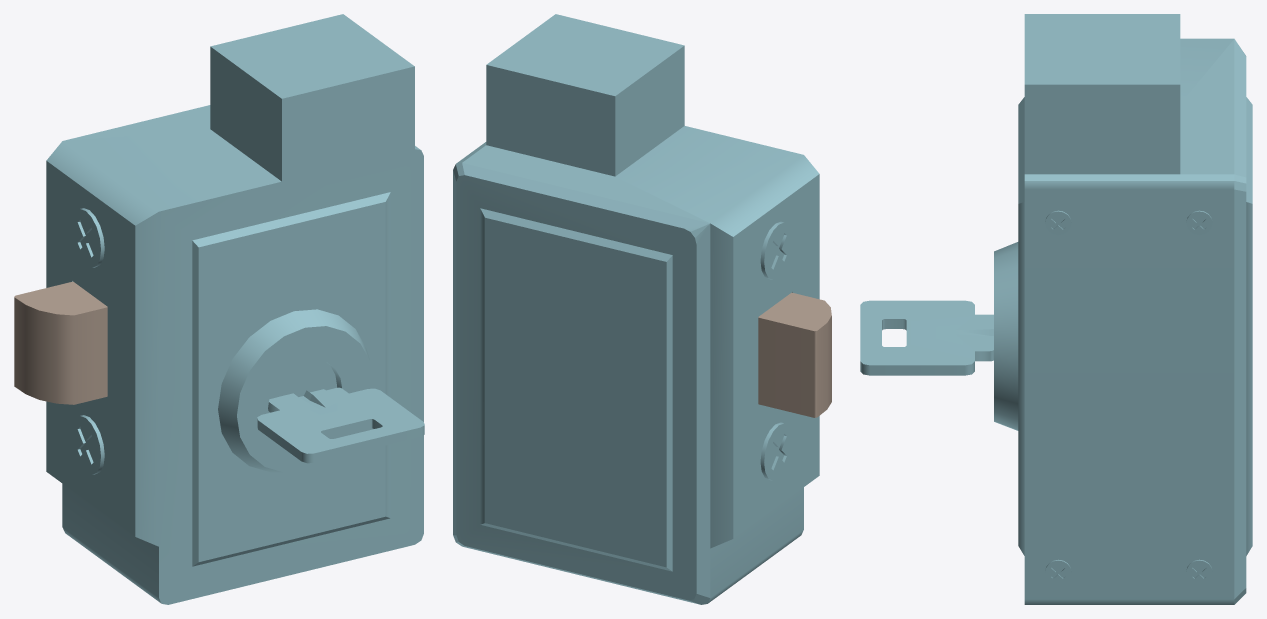
The model's file is Lock.fbx.
The picture shows the model from 3 angles, left to right: view 1: azimuth 30°, elevation 25°; view 2: azimuth 150°, elevation 25°; view 3: azimuth 270°, elevation 25°; orthographic projection. The views are drawn at different scales.
Visible parts, largest first — view 1: LockShell, LockHole1, LockHeadModel, Key, ShellNail, ShellNail1; view 2: BackShell, LockShell, LockHeadModel, ShellNail, ShellNail1; view 3: LockShell, BackShell, Key, LockHole1, ShellNail3, ShellNail4, ShellNail5, ShellNail2.
Boxes of the visible parts, box(x1,y1,x2,y2) form: LockShell: box(46, 14, 423, 604); LockHole1: box(218, 309, 373, 472); LockHeadModel: box(14, 281, 107, 404); Key: box(257, 387, 424, 463); ShellNail: box(70, 208, 104, 268); ShellNail1: box(70, 415, 104, 474); BackShell: box(453, 163, 710, 604); LockShell: box(456, 14, 819, 603); LockHeadModel: box(758, 292, 831, 417); ShellNail: box(760, 221, 793, 279); ShellNail1: box(760, 422, 793, 480); LockShell: box(1018, 14, 1234, 604); BackShell: box(1234, 39, 1252, 604); Key: box(860, 300, 993, 375); LockHole1: box(994, 242, 1018, 430); ShellNail3: box(1045, 559, 1071, 584); ShellNail4: box(1186, 210, 1212, 235); ShellNail5: box(1186, 559, 1212, 584); ShellNail2: box(1045, 210, 1071, 235).
Size of the model in its own units: 10.12 by 13.38 by 9.15.
